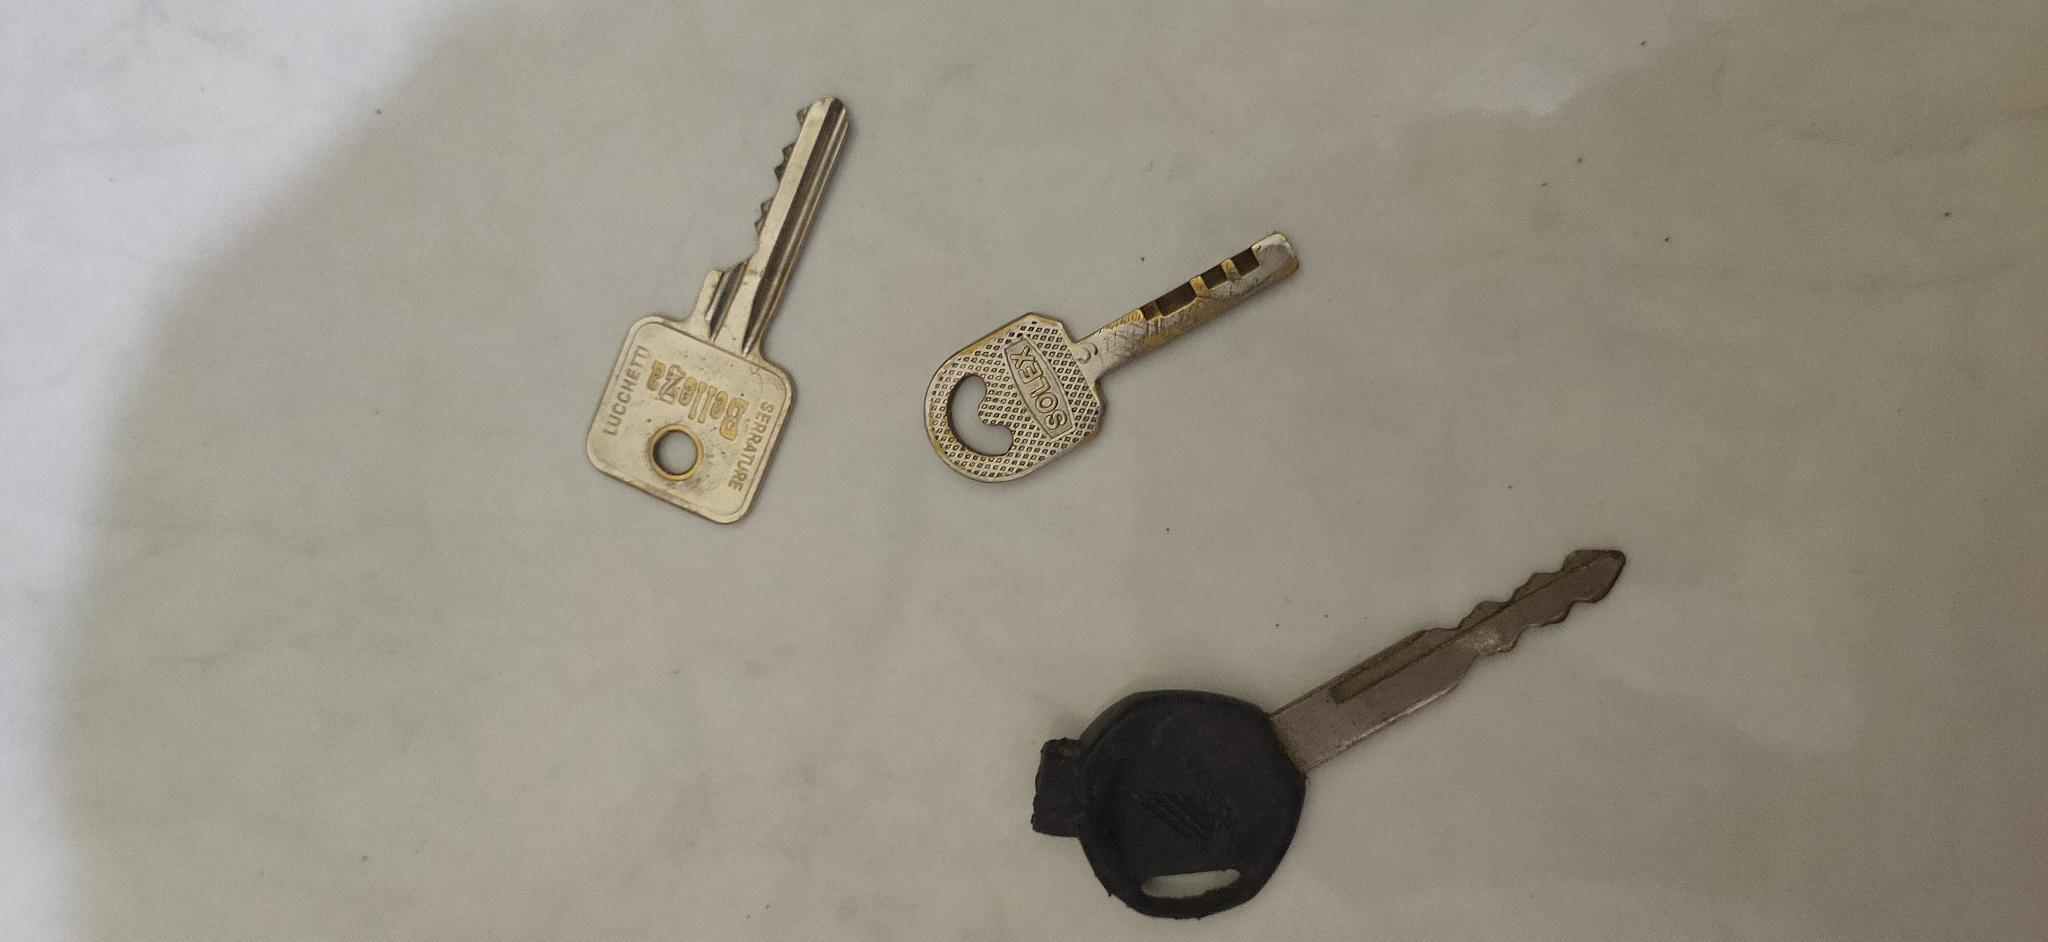keys: (1021, 530, 1640, 922), (554, 84, 879, 540), (914, 223, 1306, 510)
